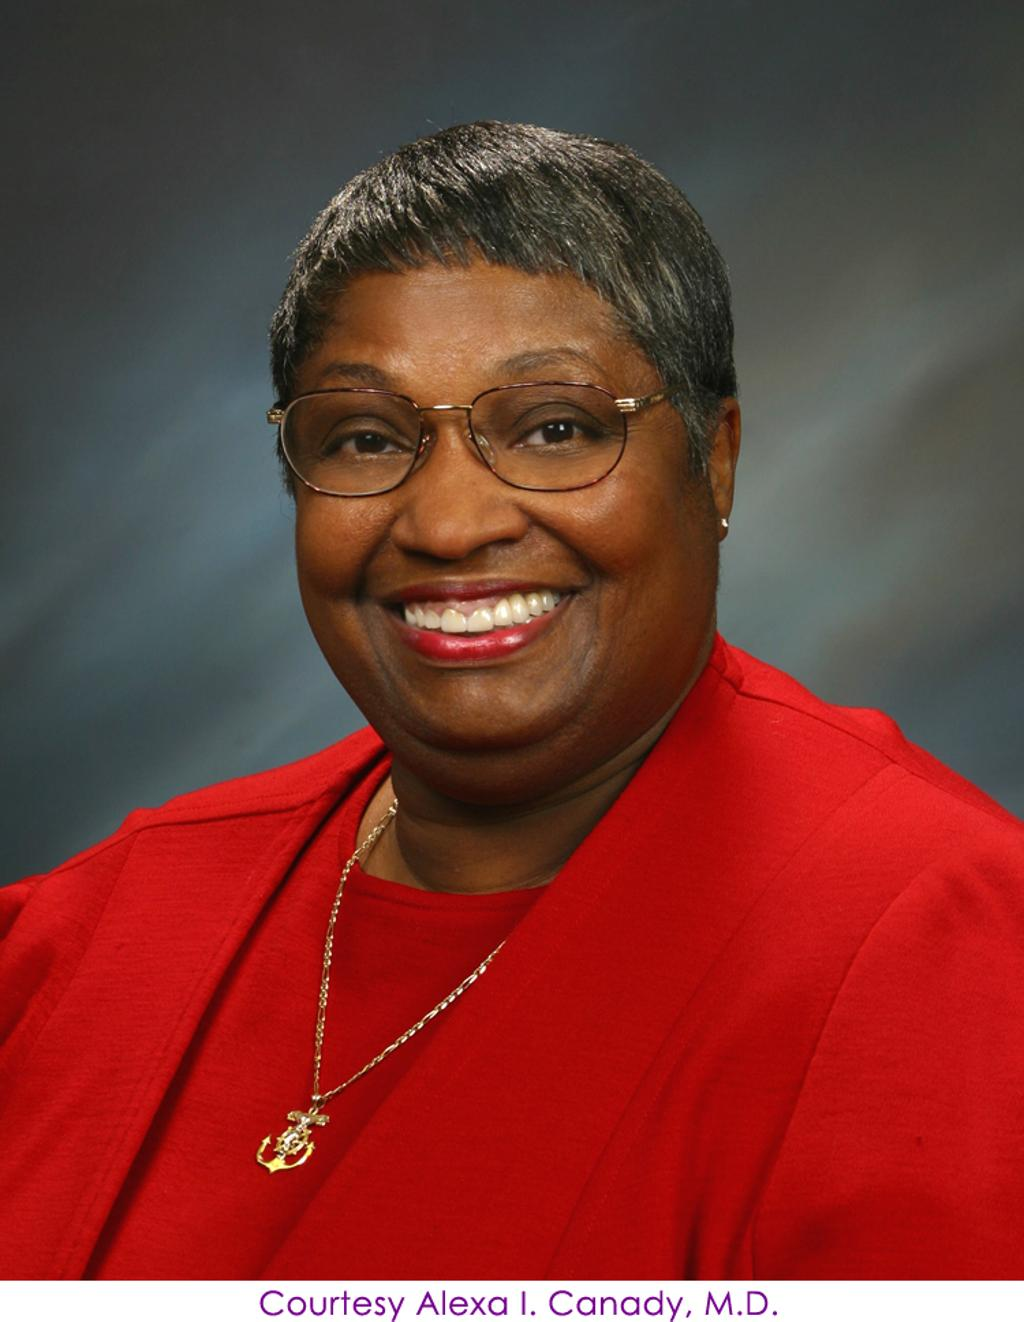face: (304, 273, 696, 745)
